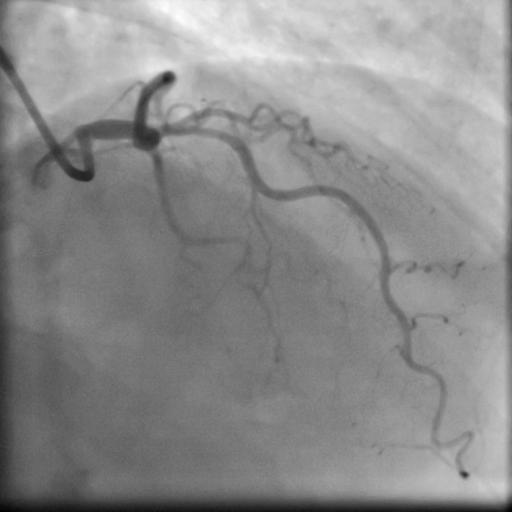Stenosis: (177, 124, 226, 141)
